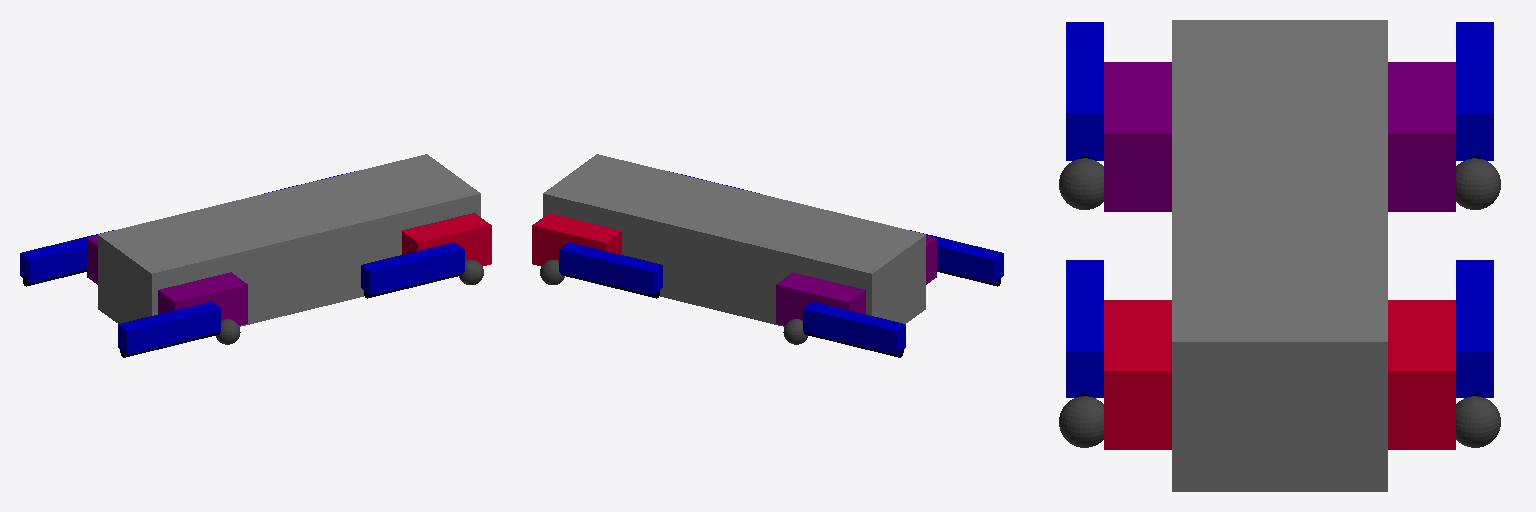
URDF robot description (ngr):
<?xml version="1.0" ?>
<!-- =================================================================================== -->
<!-- |    This document was autogenerated by xacro from vision60.urdf.xacro            | -->
<!-- |    EDITING THIS FILE BY HAND IS NOT RECOMMENDED                                 | -->
<!-- =================================================================================== -->
<!-- 
MIT License (modified)

Copyright (c) 2018 Ghost Robotics
Authors:
[author] <[email redacted]>
[author] <[email redacted]>

Permission is hereby granted, free of charge, to any person obtaining a copy
of this **file** (the "Software"), to deal
in the Software without restriction, including without limitation the rights
to use, copy, modify, merge, publish, distribute, sublicense, and/or sell
copies of the Software, and to permit persons to whom the Software is
furnished to do so, subject to the following conditions:

The above copyright notice and this permission notice shall be included in all
copies or substantial portions of the Software.

THE SOFTWARE IS PROVIDED "AS IS", WITHOUT WARRANTY OF ANY KIND, EXPRESS OR
IMPLIED, INCLUDING BUT NOT LIMITED TO THE WARRANTIES OF MERCHANTABILITY,
FITNESS FOR A PARTICULAR PURPOSE AND NONINFRINGEMENT. IN NO EVENT SHALL THE
AUTHORS OR COPYRIGHT [author] ANY CLAIM, DAMAGES OR OTHER
LIABILITY, WHETHER IN AN ACTION OF CONTRACT, TORT OR OTHERWISE, ARISING FROM,
OUT OF OR IN CONNECTION WITH THE SOFTWARE OR THE USE OR OTHER DEALINGS IN THE
SOFTWARE. 
-->
<robot name="ngr" xmlns:xacro="http://www.ros.org/wiki/xacro">
  <!-- Define parameters -->
  <!-- Define materials -->
  <material name="gray">
    <color rgba="0.5 0.5 0.5 0.7"/>
  </material>
  <material name="darkgray">
    <color rgba="0.3 0.3 0.3 1.0"/>
  </material>
  <material name="blue">
    <color rgba="0 0 0.8 1"/>
  </material>
  <material name="black">
    <color rgba="0 0 0 1"/>
  </material>
  <material name="purple">
    <color rgba="0.5 0.0 0.5 1.0"/>
  </material>
  <material name="red">
    <color rgba="0.8 0.0 0.2 1.0"/>
  </material>
  <!-- Body -->
  <link name="body">
    <visual>
      <origin rpy="0 0 0" xyz="0 0 0"/>
      <geometry>
        <box size="0.88 0.25 0.19"/>
      </geometry>
      <material name="gray"/>
    </visual>
    <inertial>
      <mass value="12"/>
      <!-- Uniform box -->
      <inertia ixx="0.0986" ixy="0" ixz="0" iyy="0.8105" iyz="0" izz="0.8369"/>
    </inertial>
    <!-- Just copy geometry for collision -->
    <collision>
      <geometry>
        <box size="0.05 0.25 0.19"/>
      </geometry>
    </collision>
  </link>
  <!-- Define our leg macro -->
  <!-- red new legs -->
  <!-- TODO: clean this, it should be part of main leg macro -->
  <!-- Define our leg macro -->
  <!-- Our four legs -->
  <!-- Hip motor -->
  <link name="hip0">
    <visual>
      <origin rpy="1.5707963268 0 0" xyz="0.0 -0.039 0"/>
      <geometry>
        <box size="0.195 0.1 0.17"/>
      </geometry>
      <material name="red"/>
    </visual>
    <collision>
      <origin rpy="1.5707963268 0 0" xyz="0.0 -0.039 0"/>
      <geometry>
        <box size="0.195 0.1 0.17"/>
      </geometry>
    </collision>
    <inertial>
      <mass value="2.75"/>
      <inertia ixx="0.00891458" ixy="0" ixz="0" iyy="0.0100573" iyz="0" izz="0.01533698"/>
    </inertial>
  </link>
  <!-- Abduction joint. Joint names are: 8 9 10 11 -->
  <joint name="8" type="revolute">
    <parent link="body"/>
    <child link="hip0"/>
    <axis xyz="1 0 0"/>
    <origin xyz="0.325 0.1575 0"/>
    <limit effort="375" lower="-0.43" upper="0.43" velocity="8.6"/>
    <dynamics damping="0.0" friction="0.0"/>
  </joint>
  <!-- Upper leg -->
  <link name="upper0">
    <visual>
      <origin rpy="0 0 0" xyz="-0.125 0.0 0"/>
      <geometry>
        <box size="0.25 0.044 0.06"/>
      </geometry>
      <material name="blue"/>
    </visual>
    <collision>
      <origin rpy="0 0 0" xyz="-0.125 0 0"/>
      <geometry>
        <box size="0.25 0.044 0.06"/>
      </geometry>
    </collision>
    <inertial>
      <mass value="0.625"/>
      <inertia ixx="0.0003125" ixy="0" ixz="0" iyy="0.0040625" iyz="0" izz="0.0040625"/>
    </inertial>
  </link>
  <!-- Hip joint. (Motor to upper leg). Joint names are: 0 2 4 6 -->
  <joint name="0" type="revolute">
    <parent link="hip0"/>
    <child link="upper0"/>
    <axis xyz="0 -1 0"/>
    <origin xyz="0 0.068 0"/>
    <!--  rpy="0 -0.3 0" -->
    <limit effort="87.5" lower="-3.14159265359" upper="3.14159265359" velocity="30"/>
    <dynamics damping="0.0" friction="0.0"/>
  </joint>
  <!-- Lower leg -->
  <link name="lower0">
    <visual>
      <origin rpy="0 1.5707963268 0" xyz="0.14 0 -0.0355"/>
      <geometry>
        <cylinder length="0.28" radius="0.011"/>
      </geometry>
      <material name="black"/>
    </visual>
    <collision>
      <origin rpy="0 1.5707963268 0" xyz="0.14 0 -0.0355"/>
      <geometry>
        <cylinder length="0.28" radius="0.011"/>
      </geometry>
    </collision>
    <inertial>
      <mass value="0.2"/>
      <inertia ixx="0.00131075" ixy="0" ixz="0" iyy="0.00131075" iyz="0" izz="0.0001"/>
    </inertial>
  </link>
  <!-- Knee joint. Joint names are: 1 3 5 7 -->
  <joint name="1" type="revolute">
    <parent link="upper0"/>
    <child link="lower0"/>
    <axis xyz="0 1 0"/>
    <origin xyz="-0.25 0 0"/>
    <!--rpy="0 0.5 0"-->
    <limit effort="87.5" lower="0" upper="3.14159265359" velocity="30"/>
    <dynamics damping="0.0" friction="0.0"/>
  </joint>
  <!-- Toe -->
  <link name="toe0">
    <contact>
      <friction_anchor/>
      <stiffness value="30000.0"/>
      <damping value="1000.0"/>
      <spinning_friction value="0.3"/>
      <lateral_friction value="3.0"/>
    </contact>
    <visual>
      <origin rpy="0 0 0" xyz="0 0 0"/>
      <geometry>
        <sphere radius="0.03"/>
      </geometry>
      <material name="darkgray"/>
    </visual>
    <collision>
      <origin rpy="0 0 0" xyz="0 0 0"/>
      <geometry>
        <sphere radius="0.03"/>
      </geometry>
    </collision>
    <inertial>
      <mass value="0.15"/>
      <inertia ixx="0.000025" ixy="0" ixz="0" iyy="0.000025" iyz="0" izz="0.000025"/>
    </inertial>
  </link>
  <joint name="jtoe0" type="fixed">
    <parent link="lower0"/>
    <child link="toe0"/>
    <origin xyz="0.28 0 -0.0461"/>
    <dynamics damping="0.0" friction="0.0"/>
  </joint>
  <!-- Hip motor -->
  <link name="hip1">
    <visual>
      <origin rpy="1.5707963268 0 0" xyz="0.0 -0.039 0"/>
      <geometry>
        <box size="0.195 0.1 0.17"/>
      </geometry>
      <material name="purple"/>
    </visual>
    <collision>
      <origin rpy="1.5707963268 0 0" xyz="0.0 -0.039 0"/>
      <geometry>
        <box size="0.195 0.1 0.17"/>
      </geometry>
    </collision>
    <inertial>
      <mass value="2.75"/>
      <inertia ixx="0.00891458" ixy="0" ixz="0" iyy="0.0100573" iyz="0" izz="0.01533698"/>
    </inertial>
  </link>
  <!-- Abduction joint. Joint names are: 8 9 10 11 -->
  <joint name="9" type="revolute">
    <parent link="body"/>
    <child link="hip1"/>
    <axis xyz="1 0 0"/>
    <origin xyz="-0.325 0.1575 0"/>
    <limit effort="375" lower="-0.43" upper="0.43" velocity="8.6"/>
    <dynamics damping="0.0" friction="0.0"/>
  </joint>
  <!-- Upper leg -->
  <link name="upper1">
    <visual>
      <origin rpy="0 0 0" xyz="-0.125 0.0 0"/>
      <geometry>
        <box size="0.25 0.044 0.06"/>
      </geometry>
      <material name="blue"/>
    </visual>
    <collision>
      <origin rpy="0 0 0" xyz="-0.125 0 0"/>
      <geometry>
        <box size="0.25 0.044 0.06"/>
      </geometry>
    </collision>
    <inertial>
      <mass value="0.625"/>
      <inertia ixx="0.0003125" ixy="0" ixz="0" iyy="0.0040625" iyz="0" izz="0.0040625"/>
    </inertial>
  </link>
  <!-- Hip joint. (Motor to upper leg). Joint names are: 0 2 4 6 -->
  <joint name="2" type="revolute">
    <parent link="hip1"/>
    <child link="upper1"/>
    <axis xyz="0 -1 0"/>
    <origin xyz="0 0.068 0"/>
    <!--  rpy="0 -0.3 0" -->
    <limit effort="87.5" lower="-3.14159265359" upper="3.14159265359" velocity="30"/>
    <dynamics damping="0.0" friction="0.0"/>
  </joint>
  <!-- Lower leg -->
  <link name="lower1">
    <visual>
      <origin rpy="0 1.5707963268 0" xyz="0.14 0 -0.0355"/>
      <geometry>
        <cylinder length="0.28" radius="0.011"/>
      </geometry>
      <material name="black"/>
    </visual>
    <collision>
      <origin rpy="0 1.5707963268 0" xyz="0.14 0 -0.0355"/>
      <geometry>
        <cylinder length="0.28" radius="0.011"/>
      </geometry>
    </collision>
    <inertial>
      <mass value="0.2"/>
      <inertia ixx="0.00131075" ixy="0" ixz="0" iyy="0.00131075" iyz="0" izz="0.0001"/>
    </inertial>
  </link>
  <!-- Knee joint. Joint names are: 1 3 5 7 -->
  <joint name="3" type="revolute">
    <parent link="upper1"/>
    <child link="lower1"/>
    <axis xyz="0 1 0"/>
    <origin xyz="-0.25 0 0"/>
    <!--rpy="0 0.5 0"-->
    <limit effort="87.5" lower="0" upper="3.14159265359" velocity="30"/>
    <dynamics damping="0.0" friction="0.0"/>
  </joint>
  <!-- Toe -->
  <link name="toe1">
    <contact>
      <friction_anchor/>
      <stiffness value="30000.0"/>
      <damping value="1000.0"/>
      <spinning_friction value="0.3"/>
      <lateral_friction value="3.0"/>
    </contact>
    <visual>
      <origin rpy="0 0 0" xyz="0 0 0"/>
      <geometry>
        <sphere radius="0.03"/>
      </geometry>
      <material name="darkgray"/>
    </visual>
    <collision>
      <origin rpy="0 0 0" xyz="0 0 0"/>
      <geometry>
        <sphere radius="0.03"/>
      </geometry>
    </collision>
    <inertial>
      <mass value="0.15"/>
      <inertia ixx="0.000025" ixy="0" ixz="0" iyy="0.000025" iyz="0" izz="0.000025"/>
    </inertial>
  </link>
  <joint name="jtoe1" type="fixed">
    <parent link="lower1"/>
    <child link="toe1"/>
    <origin xyz="0.28 0 -0.0461"/>
    <dynamics damping="0.0" friction="0.0"/>
  </joint>
  <!-- Hip motor -->
  <link name="hip2">
    <visual>
      <origin rpy="1.5707963268 0 0" xyz="0.0 0.039 0"/>
      <geometry>
        <box size="0.195 0.1 0.17"/>
      </geometry>
      <material name="red"/>
    </visual>
    <collision>
      <origin rpy="1.5707963268 0 0" xyz="0.0 0.039 0"/>
      <geometry>
        <box size="0.195 0.1 0.17"/>
      </geometry>
    </collision>
    <inertial>
      <mass value="2.75"/>
      <inertia ixx="0.00891458" ixy="0" ixz="0" iyy="0.0100573" iyz="0" izz="0.01533698"/>
    </inertial>
  </link>
  <!-- Abduction joint. Joint names are: 8 9 10 11 -->
  <joint name="10" type="revolute">
    <parent link="body"/>
    <child link="hip2"/>
    <axis xyz="1 0 0"/>
    <origin xyz="0.325 -0.1575 0"/>
    <limit effort="375" lower="-0.43" upper="0.43" velocity="8.6"/>
    <dynamics damping="0.0" friction="0.0"/>
  </joint>
  <!-- Upper leg -->
  <link name="upper2">
    <visual>
      <origin rpy="0 0 0" xyz="-0.125 -0.0 0"/>
      <geometry>
        <box size="0.25 0.044 0.06"/>
      </geometry>
      <material name="blue"/>
    </visual>
    <collision>
      <origin rpy="0 0 0" xyz="-0.125 0 0"/>
      <geometry>
        <box size="0.25 0.044 0.06"/>
      </geometry>
    </collision>
    <inertial>
      <mass value="0.625"/>
      <inertia ixx="0.0003125" ixy="0" ixz="0" iyy="0.0040625" iyz="0" izz="0.0040625"/>
    </inertial>
  </link>
  <!-- Hip joint. (Motor to upper leg). Joint names are: 0 2 4 6 -->
  <joint name="4" type="revolute">
    <parent link="hip2"/>
    <child link="upper2"/>
    <axis xyz="0 -1 0"/>
    <origin xyz="0 -0.068 0"/>
    <!--  rpy="0 -0.3 0" -->
    <limit effort="87.5" lower="-3.14159265359" upper="3.14159265359" velocity="30"/>
    <dynamics damping="0.0" friction="0.0"/>
  </joint>
  <!-- Lower leg -->
  <link name="lower2">
    <visual>
      <origin rpy="0 1.5707963268 0" xyz="0.14 0 -0.0355"/>
      <geometry>
        <cylinder length="0.28" radius="0.011"/>
      </geometry>
      <material name="black"/>
    </visual>
    <collision>
      <origin rpy="0 1.5707963268 0" xyz="0.14 0 -0.0355"/>
      <geometry>
        <cylinder length="0.28" radius="0.011"/>
      </geometry>
    </collision>
    <inertial>
      <mass value="0.2"/>
      <inertia ixx="0.00131075" ixy="0" ixz="0" iyy="0.00131075" iyz="0" izz="0.0001"/>
    </inertial>
  </link>
  <!-- Knee joint. Joint names are: 1 3 5 7 -->
  <joint name="5" type="revolute">
    <parent link="upper2"/>
    <child link="lower2"/>
    <axis xyz="0 1 0"/>
    <origin xyz="-0.25 0 0"/>
    <!--rpy="0 0.5 0"-->
    <limit effort="87.5" lower="0" upper="3.14159265359" velocity="30"/>
    <dynamics damping="0.0" friction="0.0"/>
  </joint>
  <!-- Toe -->
  <link name="toe2">
    <contact>
      <friction_anchor/>
      <stiffness value="30000.0"/>
      <damping value="1000.0"/>
      <spinning_friction value="0.3"/>
      <lateral_friction value="3.0"/>
    </contact>
    <visual>
      <origin rpy="0 0 0" xyz="0 0 0"/>
      <geometry>
        <sphere radius="0.03"/>
      </geometry>
      <material name="darkgray"/>
    </visual>
    <collision>
      <origin rpy="0 0 0" xyz="0 0 0"/>
      <geometry>
        <sphere radius="0.03"/>
      </geometry>
    </collision>
    <inertial>
      <mass value="0.15"/>
      <inertia ixx="0.000025" ixy="0" ixz="0" iyy="0.000025" iyz="0" izz="0.000025"/>
    </inertial>
  </link>
  <joint name="jtoe2" type="fixed">
    <parent link="lower2"/>
    <child link="toe2"/>
    <origin xyz="0.28 0 -0.0461"/>
    <dynamics damping="0.0" friction="0.0"/>
  </joint>
  <!-- Hip motor -->
  <link name="hip3">
    <visual>
      <origin rpy="1.5707963268 0 0" xyz="0.0 0.039 0"/>
      <geometry>
        <box size="0.195 0.1 0.17"/>
      </geometry>
      <material name="purple"/>
    </visual>
    <collision>
      <origin rpy="1.5707963268 0 0" xyz="0.0 0.039 0"/>
      <geometry>
        <box size="0.195 0.1 0.17"/>
      </geometry>
    </collision>
    <inertial>
      <mass value="2.75"/>
      <inertia ixx="0.00891458" ixy="0" ixz="0" iyy="0.0100573" iyz="0" izz="0.01533698"/>
    </inertial>
  </link>
  <!-- Abduction joint. Joint names are: 8 9 10 11 -->
  <joint name="11" type="revolute">
    <parent link="body"/>
    <child link="hip3"/>
    <axis xyz="1 0 0"/>
    <origin xyz="-0.325 -0.1575 0"/>
    <limit effort="375" lower="-0.43" upper="0.43" velocity="8.6"/>
    <dynamics damping="0.0" friction="0.0"/>
  </joint>
  <!-- Upper leg -->
  <link name="upper3">
    <visual>
      <origin rpy="0 0 0" xyz="-0.125 -0.0 0"/>
      <geometry>
        <box size="0.25 0.044 0.06"/>
      </geometry>
      <material name="blue"/>
    </visual>
    <collision>
      <origin rpy="0 0 0" xyz="-0.125 0 0"/>
      <geometry>
        <box size="0.25 0.044 0.06"/>
      </geometry>
    </collision>
    <inertial>
      <mass value="0.625"/>
      <inertia ixx="0.0003125" ixy="0" ixz="0" iyy="0.0040625" iyz="0" izz="0.0040625"/>
    </inertial>
  </link>
  <!-- Hip joint. (Motor to upper leg). Joint names are: 0 2 4 6 -->
  <joint name="6" type="revolute">
    <parent link="hip3"/>
    <child link="upper3"/>
    <axis xyz="0 -1 0"/>
    <origin xyz="0 -0.068 0"/>
    <!--  rpy="0 -0.3 0" -->
    <limit effort="87.5" lower="-3.14159265359" upper="3.14159265359" velocity="30"/>
    <dynamics damping="0.0" friction="0.0"/>
  </joint>
  <!-- Lower leg -->
  <link name="lower3">
    <visual>
      <origin rpy="0 1.5707963268 0" xyz="0.14 0 -0.0355"/>
      <geometry>
        <cylinder length="0.28" radius="0.011"/>
      </geometry>
      <material name="black"/>
    </visual>
    <collision>
      <origin rpy="0 1.5707963268 0" xyz="0.14 0 -0.0355"/>
      <geometry>
        <cylinder length="0.28" radius="0.011"/>
      </geometry>
    </collision>
    <inertial>
      <mass value="0.2"/>
      <inertia ixx="0.00131075" ixy="0" ixz="0" iyy="0.00131075" iyz="0" izz="0.0001"/>
    </inertial>
  </link>
  <!-- Knee joint. Joint names are: 1 3 5 7 -->
  <joint name="7" type="revolute">
    <parent link="upper3"/>
    <child link="lower3"/>
    <axis xyz="0 1 0"/>
    <origin xyz="-0.25 0 0"/>
    <!--rpy="0 0.5 0"-->
    <limit effort="87.5" lower="0" upper="3.14159265359" velocity="30"/>
    <dynamics damping="0.0" friction="0.0"/>
  </joint>
  <!-- Toe -->
  <link name="toe3">
    <contact>
      <friction_anchor/>
      <stiffness value="30000.0"/>
      <damping value="1000.0"/>
      <spinning_friction value="0.3"/>
      <lateral_friction value="3.0"/>
    </contact>
    <visual>
      <origin rpy="0 0 0" xyz="0 0 0"/>
      <geometry>
        <sphere radius="0.03"/>
      </geometry>
      <material name="darkgray"/>
    </visual>
    <collision>
      <origin rpy="0 0 0" xyz="0 0 0"/>
      <geometry>
        <sphere radius="0.03"/>
      </geometry>
    </collision>
    <inertial>
      <mass value="0.15"/>
      <inertia ixx="0.000025" ixy="0" ixz="0" iyy="0.000025" iyz="0" izz="0.000025"/>
    </inertial>
  </link>
  <joint name="jtoe3" type="fixed">
    <parent link="lower3"/>
    <child link="toe3"/>
    <origin xyz="0.28 0 -0.0461"/>
    <dynamics damping="0.0" friction="0.0"/>
  </joint>
</robot>


--- Render facts (derived) ---
Views: 3 orthographic renders of the robot side by side, from view 1: azimuth 30°, elevation 25°; view 2: azimuth 150°, elevation 25°; view 3: azimuth 270°, elevation 25°.
Model ngr with 17 links and 16 joints (12 revolute, 4 fixed), rooted at body, posed all joints at 0.
Visible links, largest first — view 1: body, upper2, upper3, hip2, hip3, upper1; view 2: body, upper0, upper1, hip0, hip1, upper3; view 3: body, hip0, hip1, hip2, hip3, upper1, upper3, upper0, upper2, toe1, toe3, toe0 (+1 smaller).
Boxes of the visible links, box(x1,y1,x2,y2) form: body: box(98, 154, 480, 326); upper2: box(361, 242, 464, 294); upper3: box(118, 301, 220, 354); hip2: box(402, 213, 491, 266); hip3: box(158, 272, 247, 325); upper1: box(20, 230, 113, 282); body: box(543, 154, 925, 326); upper0: box(559, 242, 662, 294); upper1: box(803, 301, 905, 354); hip0: box(532, 213, 621, 266); hip1: box(776, 272, 865, 325); upper3: box(910, 230, 1003, 282); body: box(1172, 20, 1387, 491); hip0: box(1388, 300, 1455, 449); hip1: box(1388, 62, 1455, 211); hip2: box(1104, 300, 1171, 449); hip3: box(1104, 62, 1171, 211); upper1: box(1456, 22, 1493, 160); upper3: box(1066, 22, 1103, 160); upper0: box(1456, 260, 1493, 397); upper2: box(1066, 260, 1103, 397); toe1: box(1456, 158, 1500, 209); toe3: box(1059, 158, 1103, 209); toe0: box(1456, 396, 1500, 447).
Bounding box of the posed robot: 1.01 × 0.511 × 0.19 m (x, y, z).
Geometry: primitives only (box / cylinder / sphere), no mesh files.